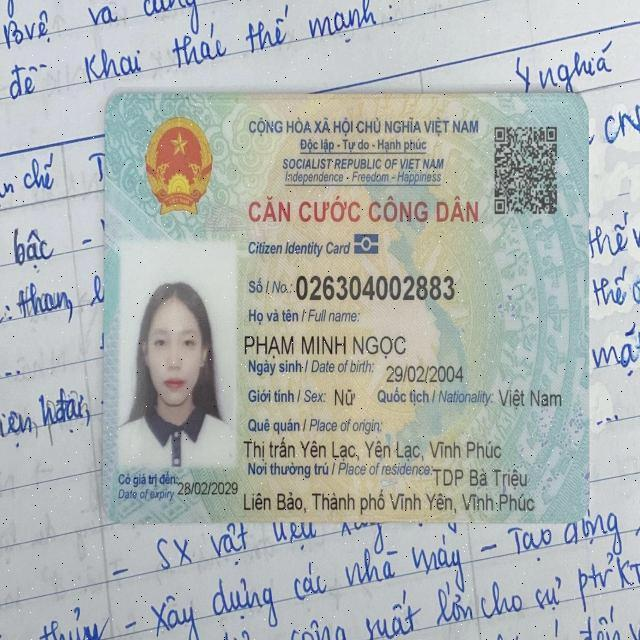current_place: (244, 488, 535, 516), (433, 465, 529, 491)
dob: (385, 362, 464, 381)
expire_date: (175, 475, 239, 499)
gender: (331, 384, 364, 406)
id: (295, 268, 454, 301)
name: (243, 326, 412, 360)
nationality: (497, 382, 563, 410)
origin_place: (243, 435, 503, 464)
qr: (490, 121, 563, 221)
